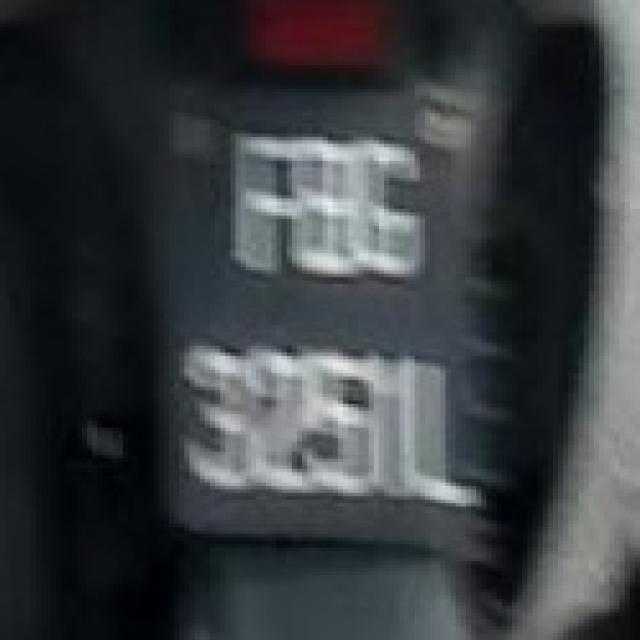1: (372, 349, 414, 502)
2: (256, 340, 317, 498)
3: (176, 346, 257, 490)
5: (309, 344, 373, 497)
B: (292, 135, 355, 278)
F: (229, 132, 291, 276)
G: (360, 138, 424, 284)
L: (414, 354, 491, 507)
